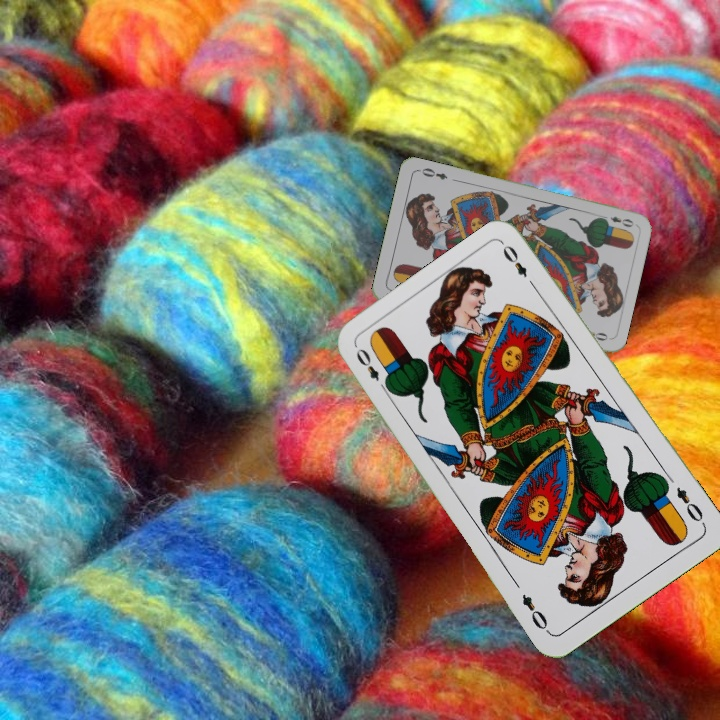EO: (351, 344, 392, 396), (672, 483, 706, 525), (597, 211, 636, 230)
